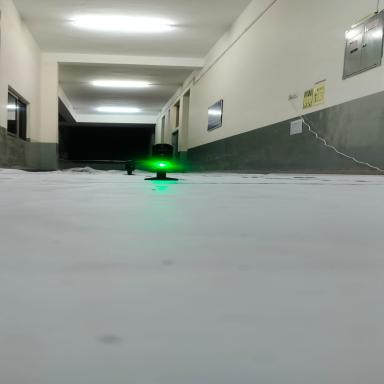green: (127, 141, 210, 193)
